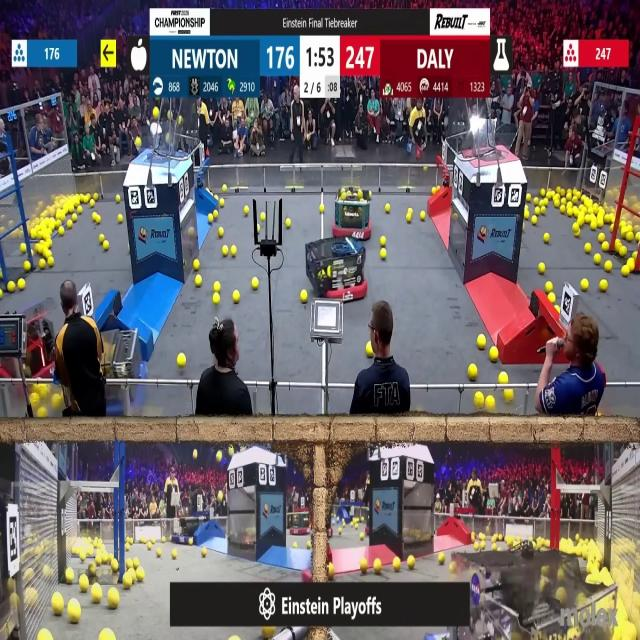ball_airborne: (152, 107, 158, 119), (217, 492, 224, 502), (136, 138, 142, 148), (216, 452, 222, 462), (227, 448, 233, 458), (192, 450, 196, 460), (178, 116, 182, 124)
ball_ground: (68, 601, 80, 623), (54, 595, 65, 616), (108, 590, 119, 609), (79, 577, 89, 593), (93, 587, 102, 604), (473, 392, 482, 407), (101, 630, 114, 640), (177, 353, 186, 367), (122, 574, 131, 588), (468, 363, 476, 378), (364, 343, 372, 358), (38, 630, 50, 640), (393, 558, 401, 572), (66, 568, 74, 582), (136, 568, 144, 582), (503, 389, 512, 401), (486, 395, 495, 407), (478, 337, 486, 350), (491, 348, 498, 362), (375, 560, 382, 574), (499, 373, 507, 385), (620, 246, 628, 258), (38, 409, 46, 420), (600, 280, 607, 292), (234, 290, 241, 302), (409, 557, 416, 569), (359, 558, 366, 570), (439, 553, 446, 565), (213, 292, 220, 304), (111, 560, 118, 572), (302, 290, 309, 302), (544, 282, 552, 292), (546, 293, 554, 303), (42, 247, 50, 257), (538, 264, 545, 275), (192, 261, 199, 272), (91, 564, 98, 575), (252, 278, 258, 290), (628, 258, 634, 270), (17, 280, 24, 290), (194, 276, 201, 286), (213, 282, 220, 292), (602, 242, 609, 252), (7, 282, 14, 292), (604, 263, 611, 273), (39, 261, 46, 271), (328, 563, 333, 577), (623, 268, 630, 278), (591, 219, 598, 229), (35, 244, 42, 254), (577, 215, 584, 225), (597, 218, 604, 228), (231, 246, 237, 257), (583, 280, 589, 291), (539, 207, 547, 215), (627, 233, 634, 242), (187, 229, 194, 238), (381, 238, 387, 248), (595, 254, 601, 264), (26, 263, 32, 273), (381, 249, 387, 259), (586, 244, 592, 254), (46, 257, 52, 267), (103, 241, 109, 251), (524, 210, 530, 220), (286, 218, 292, 228), (134, 558, 140, 568), (566, 208, 573, 216), (218, 229, 224, 238), (60, 226, 66, 235), (155, 549, 161, 558), (19, 244, 25, 253), (127, 559, 133, 568), (97, 556, 103, 565), (543, 234, 548, 244), (173, 550, 178, 560), (222, 246, 227, 256), (262, 212, 267, 222), (451, 562, 456, 572), (539, 188, 546, 195), (244, 207, 250, 215), (420, 212, 426, 220), (202, 550, 208, 558), (67, 220, 73, 228), (573, 231, 579, 239), (187, 537, 193, 545), (526, 193, 532, 201), (555, 200, 561, 208), (123, 542, 129, 550), (572, 222, 578, 230), (94, 192, 100, 200), (560, 199, 566, 207), (492, 535, 498, 543), (532, 215, 537, 224), (100, 235, 105, 244), (599, 234, 604, 243), (319, 205, 324, 214), (120, 215, 125, 224), (561, 206, 566, 215), (536, 199, 541, 208), (635, 233, 640, 242), (46, 240, 51, 249), (616, 240, 622, 247), (77, 207, 83, 214), (480, 533, 486, 540), (219, 200, 224, 208), (115, 194, 120, 202), (408, 215, 413, 223), (385, 205, 390, 213), (359, 532, 364, 540), (147, 542, 152, 550), (473, 541, 478, 549), (213, 210, 218, 218), (96, 214, 101, 222), (0, 289, 4, 299), (609, 222, 614, 230), (222, 184, 227, 192), (481, 540, 486, 548), (0, 270, 4, 280), (140, 537, 146, 543), (150, 538, 156, 544), (535, 208, 540, 215), (556, 306, 561, 313), (542, 200, 547, 207), (209, 214, 213, 222), (92, 200, 96, 208), (72, 214, 76, 222), (256, 224, 260, 232), (431, 186, 435, 194), (163, 536, 168, 542), (634, 251, 638, 258), (409, 208, 413, 215), (367, 191, 371, 198), (292, 542, 296, 548), (308, 541, 312, 547), (168, 536, 172, 542), (355, 524, 359, 528), (340, 528, 342, 534)
goal: (464, 121, 520, 160), (130, 129, 189, 160)
robot_blue: (172, 518, 204, 544)
robot_red: (309, 239, 369, 302), (333, 187, 372, 240), (286, 512, 307, 534)
